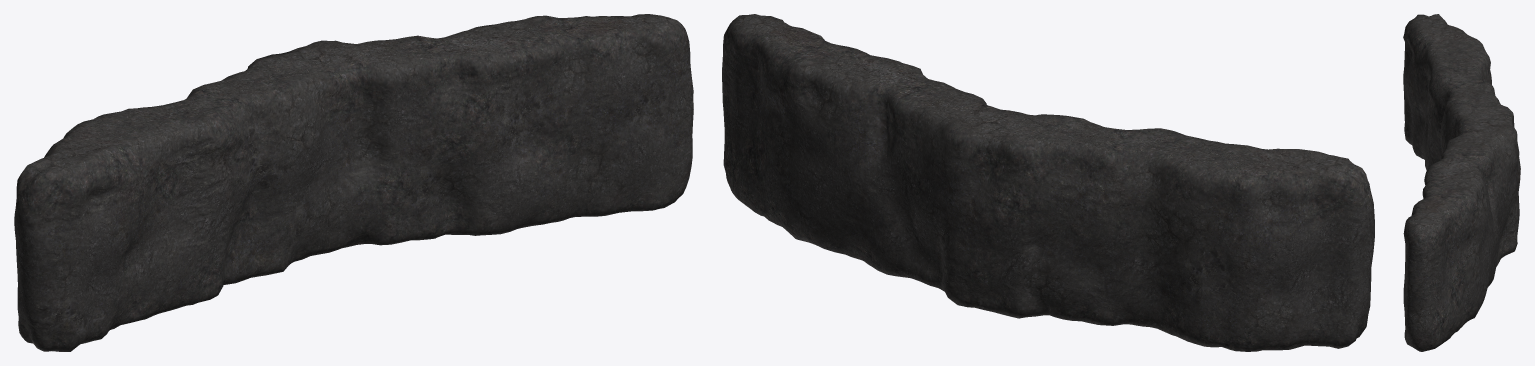
File: wall.obj
3 views of the same model, side by side, from view 1: azimuth 30°, elevation 25°; view 2: azimuth 150°, elevation 25°; view 3: azimuth 270°, elevation 25° (orthographic). The views are drawn at different scales.
Parts seen in each view (by area): view 1: CaveWalls_3; view 2: CaveWalls_3; view 3: CaveWalls_3.
Part boxes in pixels (box(x1,y1,x2,y2)): CaveWalls_3: box(14, 14, 693, 351); CaveWalls_3: box(722, 14, 1374, 351); CaveWalls_3: box(1403, 14, 1520, 351).
Size of the model in its own units: 13061 by 3501 by 2881.
